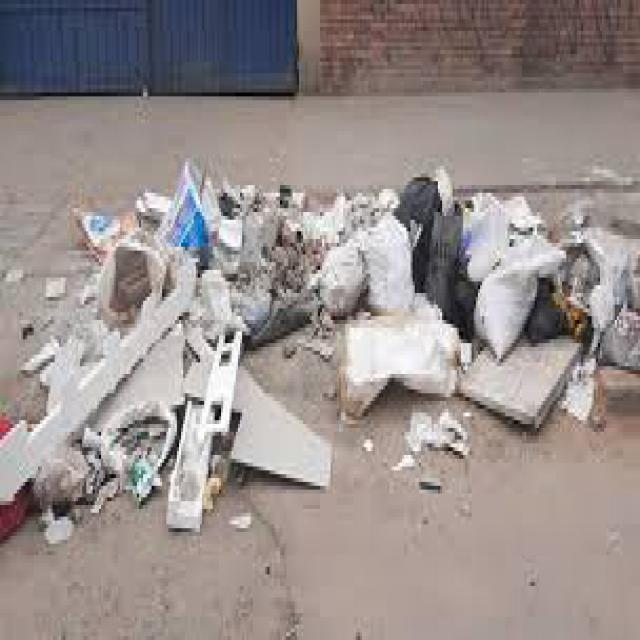Trashbag: (389, 171, 470, 331), (528, 289, 570, 351)
